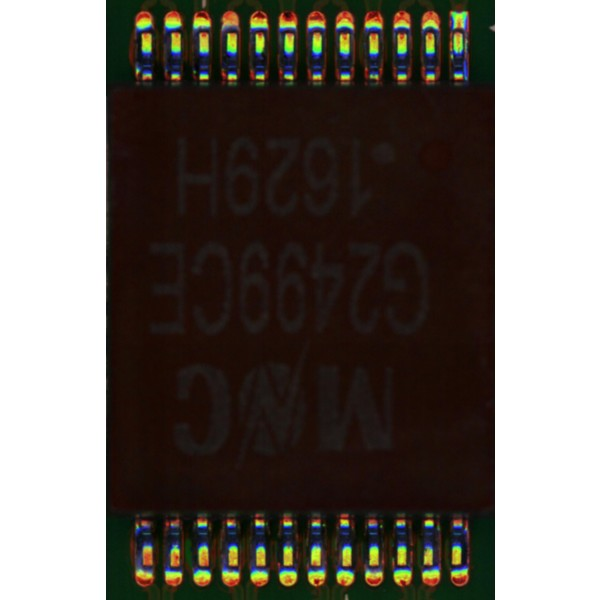Bad_podu: (455, 21, 463, 36)
Bad_qiaojiao: (464, 34, 469, 72), (449, 34, 454, 65)
